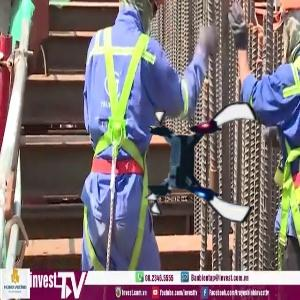drone: (142, 98, 267, 223)
